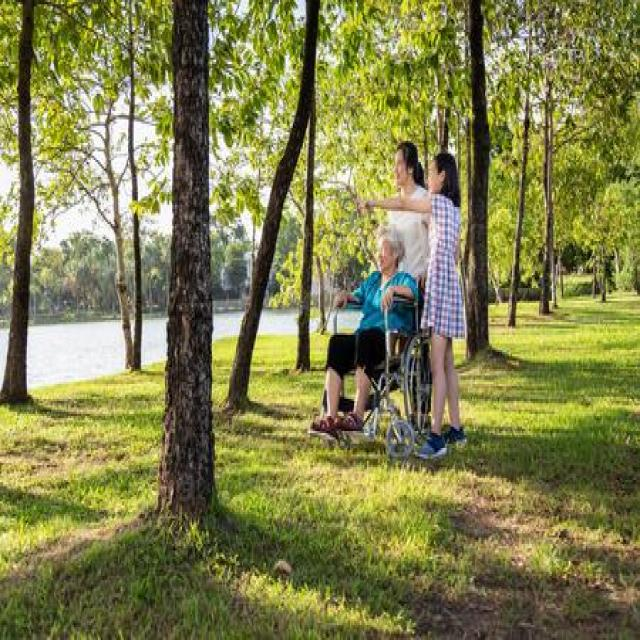wheelchairs: (310, 262, 466, 462)
